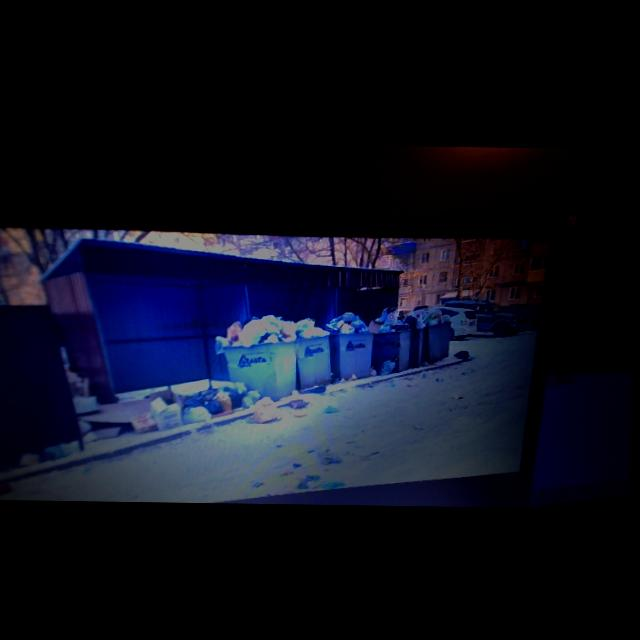Trash_Can_Full: (224, 313, 299, 401), (326, 310, 377, 379), (372, 305, 414, 372), (297, 315, 335, 388), (424, 306, 453, 361)
